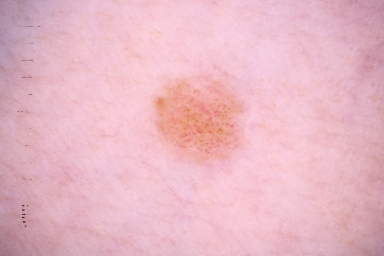nevus: (158, 76, 250, 159)
